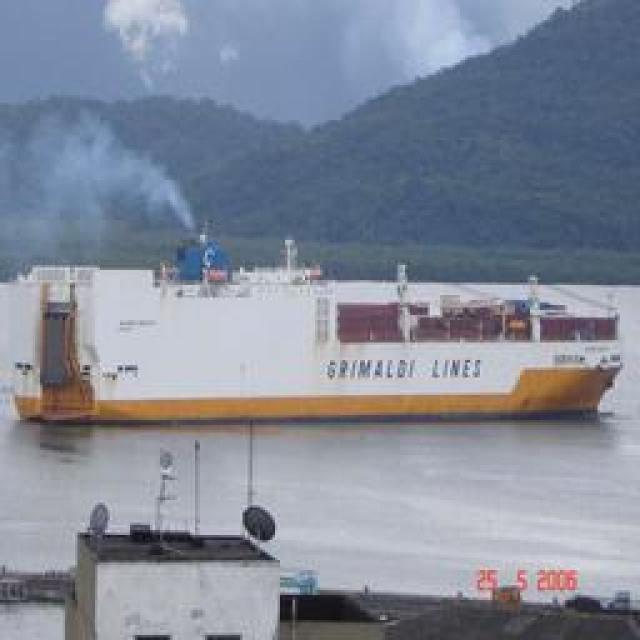CIV_Ship: (12, 251, 628, 419)
